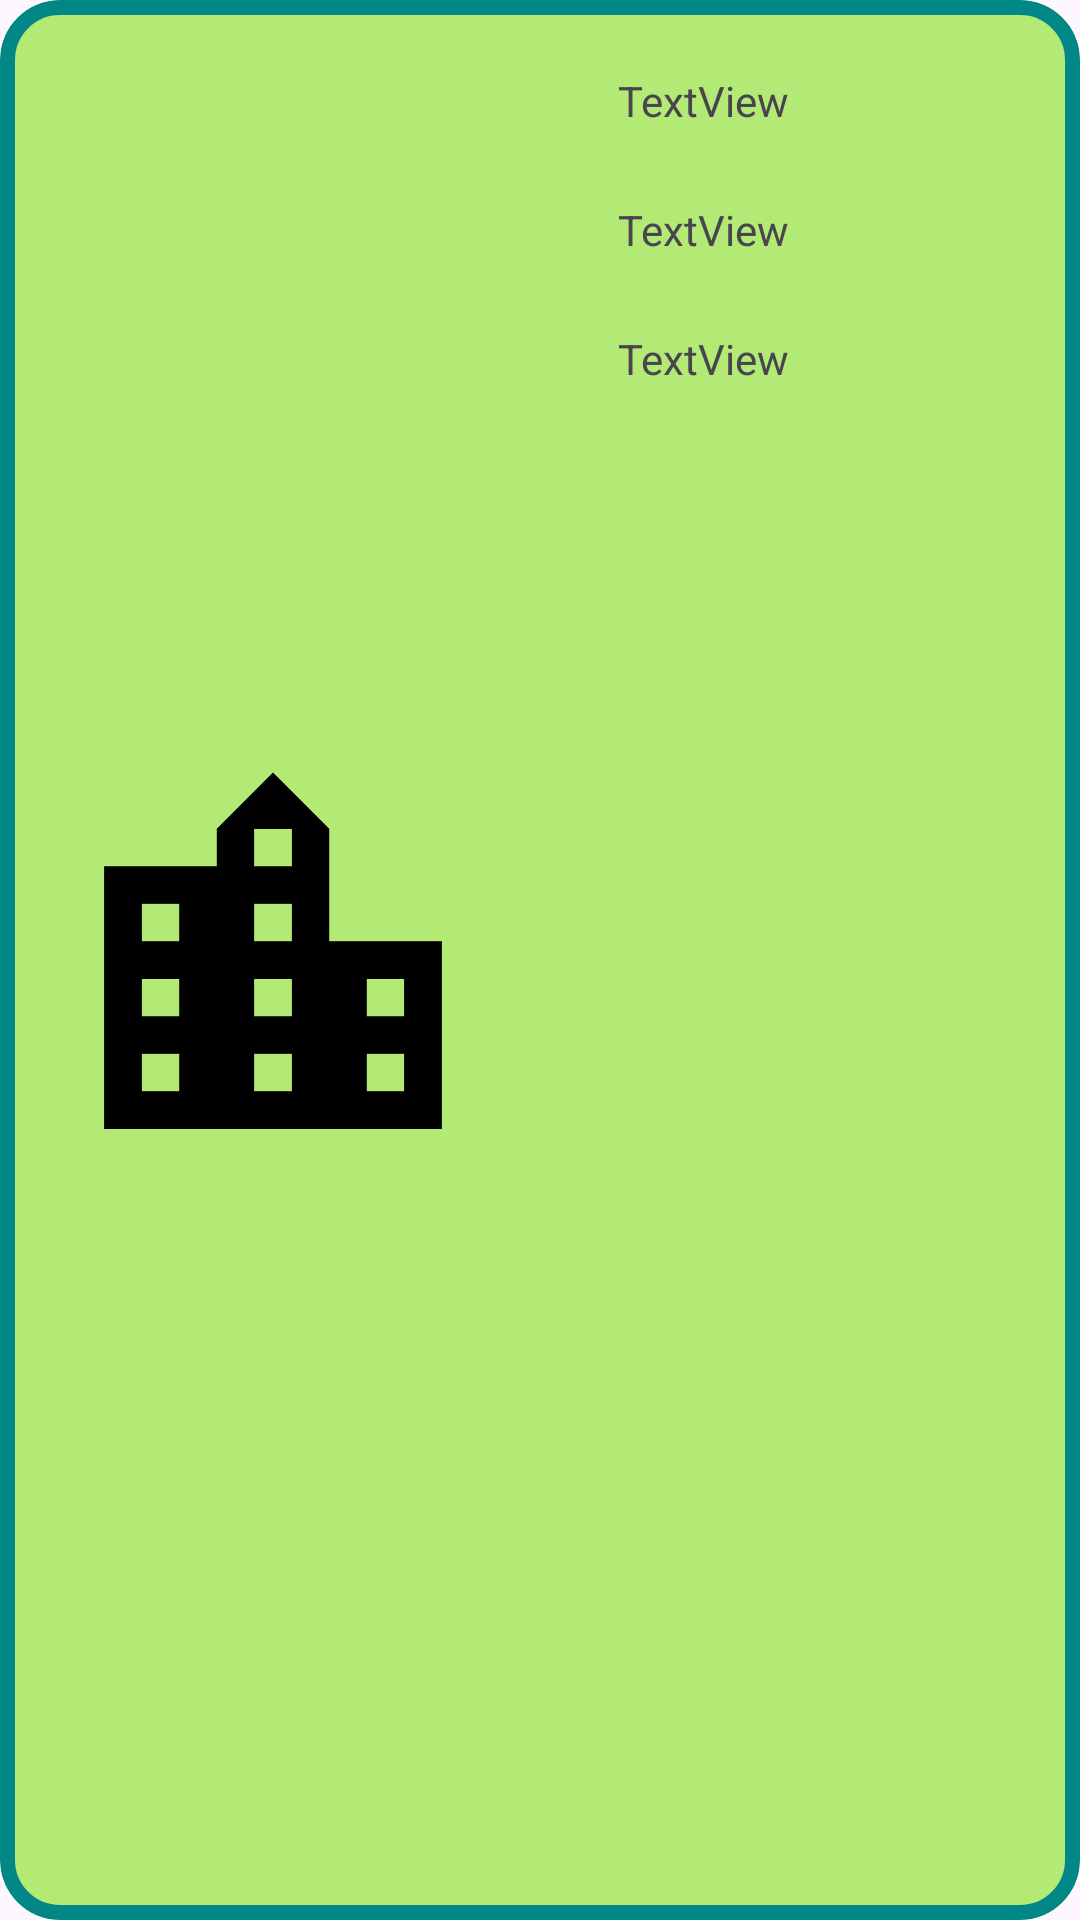

Icons on this 1080 × 1920 Android screen, each with its box as (x1,y1,x2,y2):
ciudad: (104,773,442,1129)
